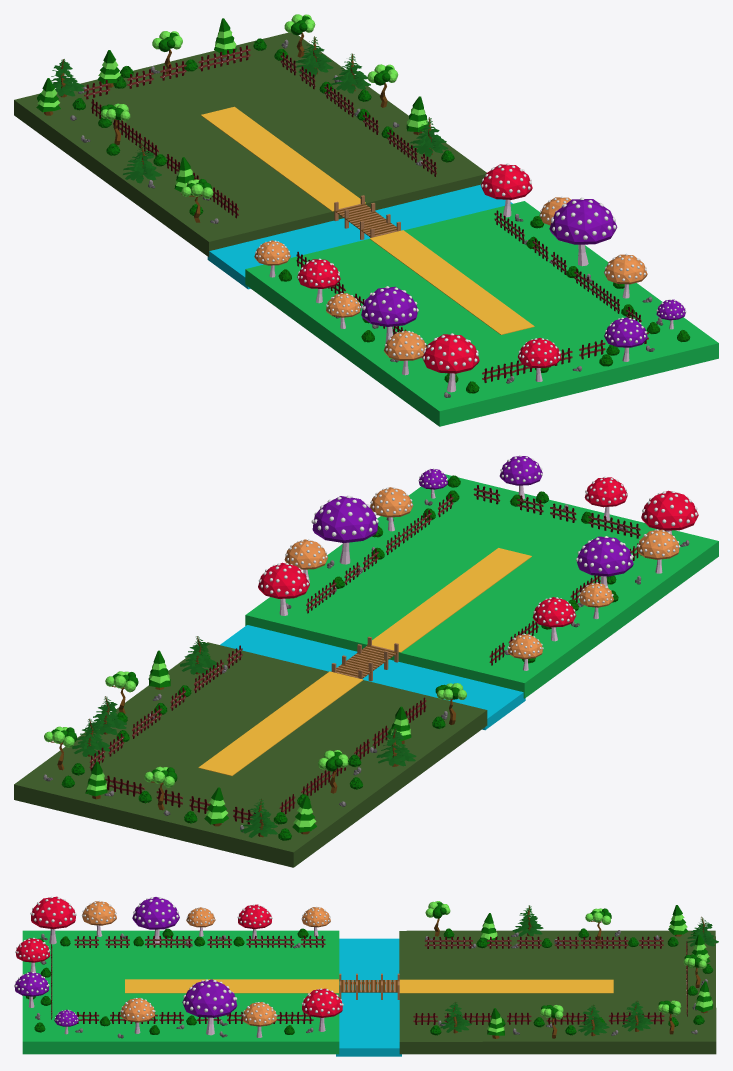
Rendered from ArenaJungleJinx.fbx.
3 renders of one model, top to bottom at view 1: azimuth 30°, elevation 25°; view 2: azimuth 150°, elevation 25°; view 3: azimuth 270°, elevation 25°, orthographic. The views are drawn at different scales.
Visible parts, largest first — view 1: Arvore Folha.005; view 2: Arvore Folha.005; view 3: Arvore Folha.005.
Boxes of the visible parts, <box> form: Arvore Folha.005: <box>14,14,718,426</box>; Arvore Folha.005: <box>14,455,718,867</box>; Arvore Folha.005: <box>14,896,718,1056</box>.
Size of the model in its own units: 20752 by 5774 by 53024.
